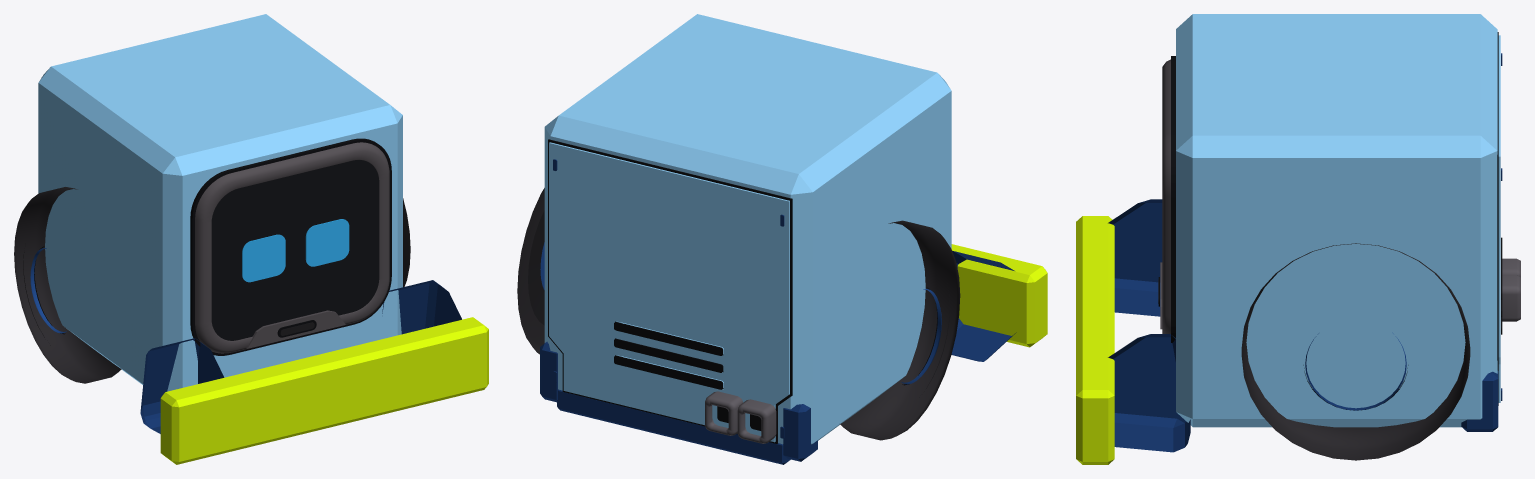
The model's file is SkyGoalkeeper.fbx.
3 renders of one model, left to right at view 1: azimuth 30°, elevation 25°; view 2: azimuth 150°, elevation 25°; view 3: azimuth 270°, elevation 25°, orthographic. The views are drawn at different scales.
Parts seen in each view (by area): view 1: SkyGoalkeeper; view 2: SkyGoalkeeper; view 3: SkyGoalkeeper.
Part boxes in pixels (left/top/right/bottom): SkyGoalkeeper: left=14, top=14, right=488, bottom=464; SkyGoalkeeper: left=517, top=14, right=1047, bottom=464; SkyGoalkeeper: left=1076, top=14, right=1520, bottom=464.
Size of the model in its own units: 1.35 by 1.04 by 1.38.
